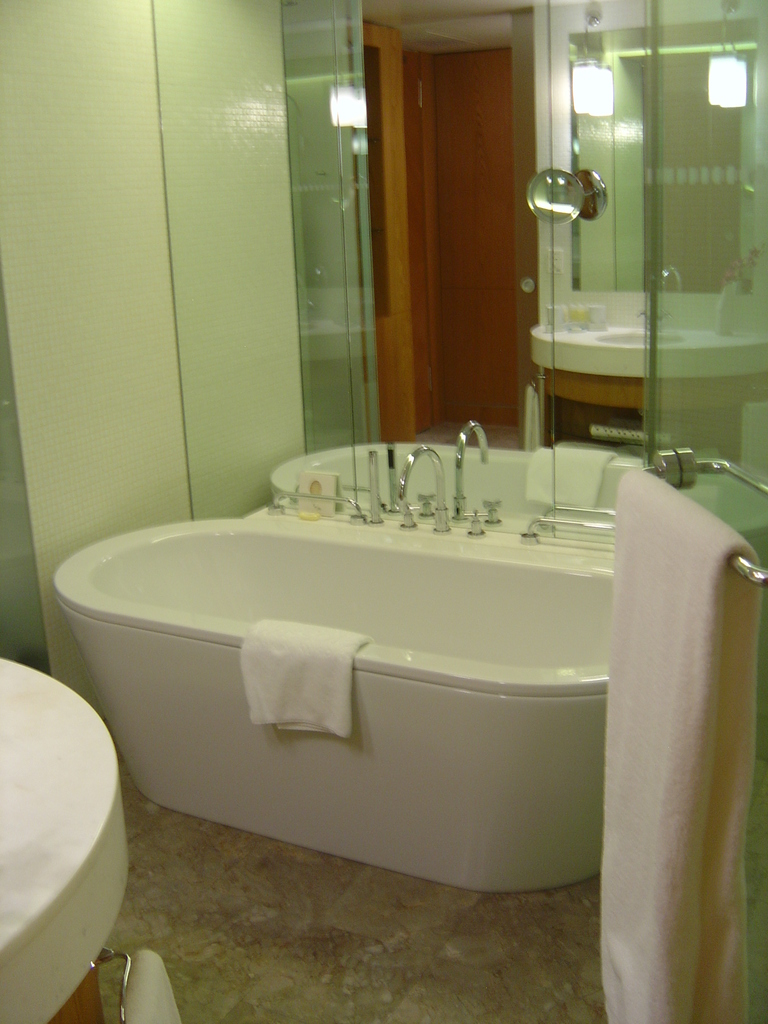tap: (392, 443, 453, 530)
